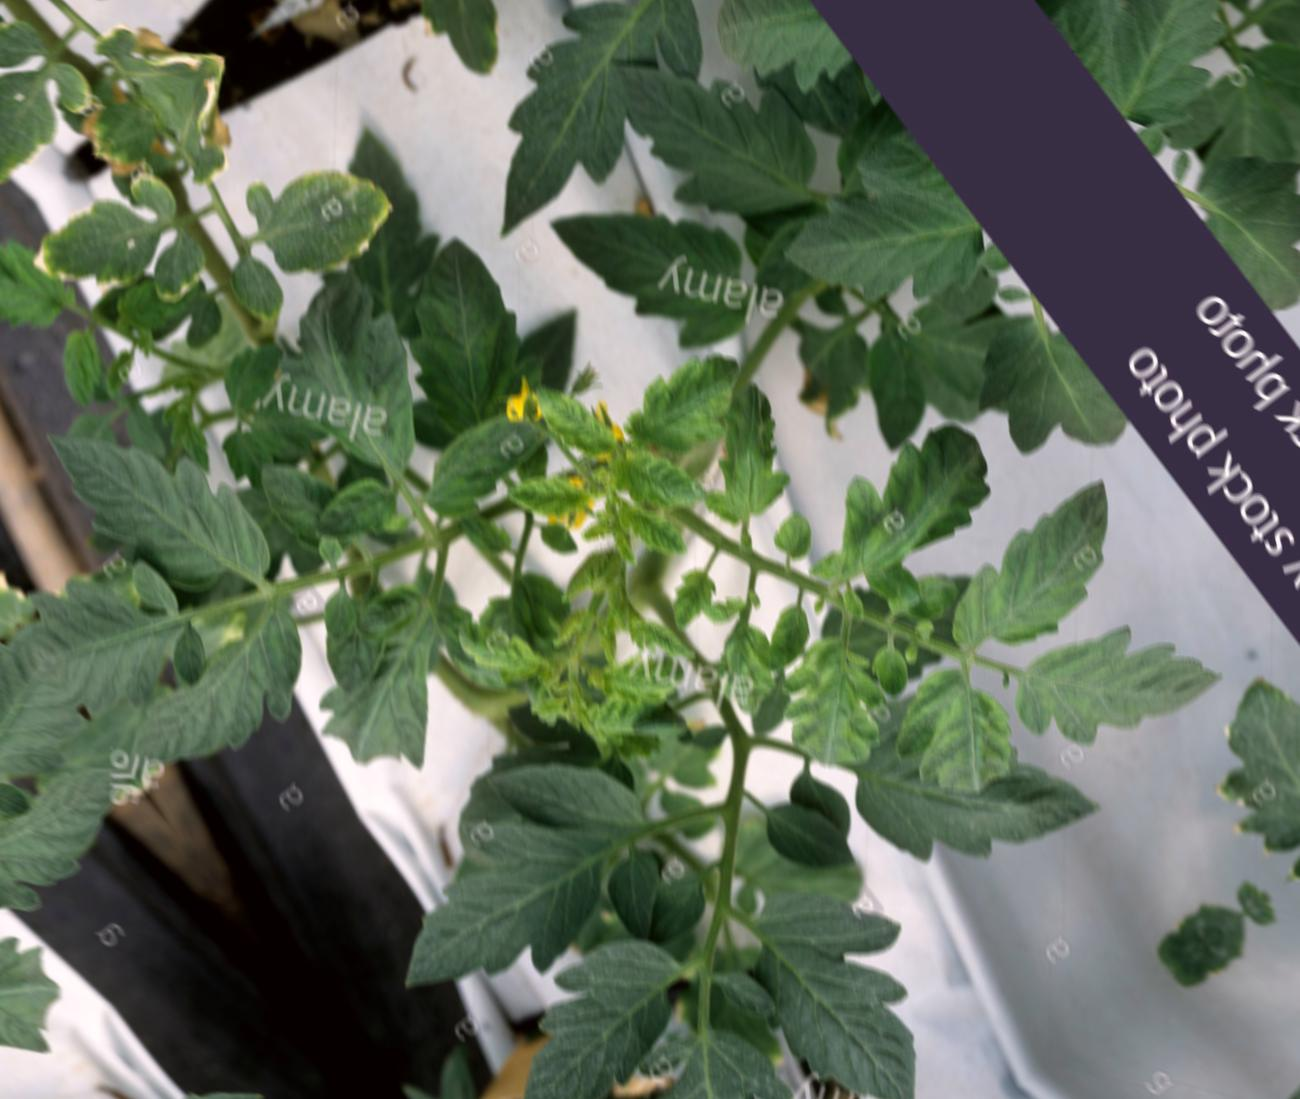Tomato leaf yellow virus: (604, 326, 768, 481), (516, 360, 638, 496), (594, 408, 718, 538)
